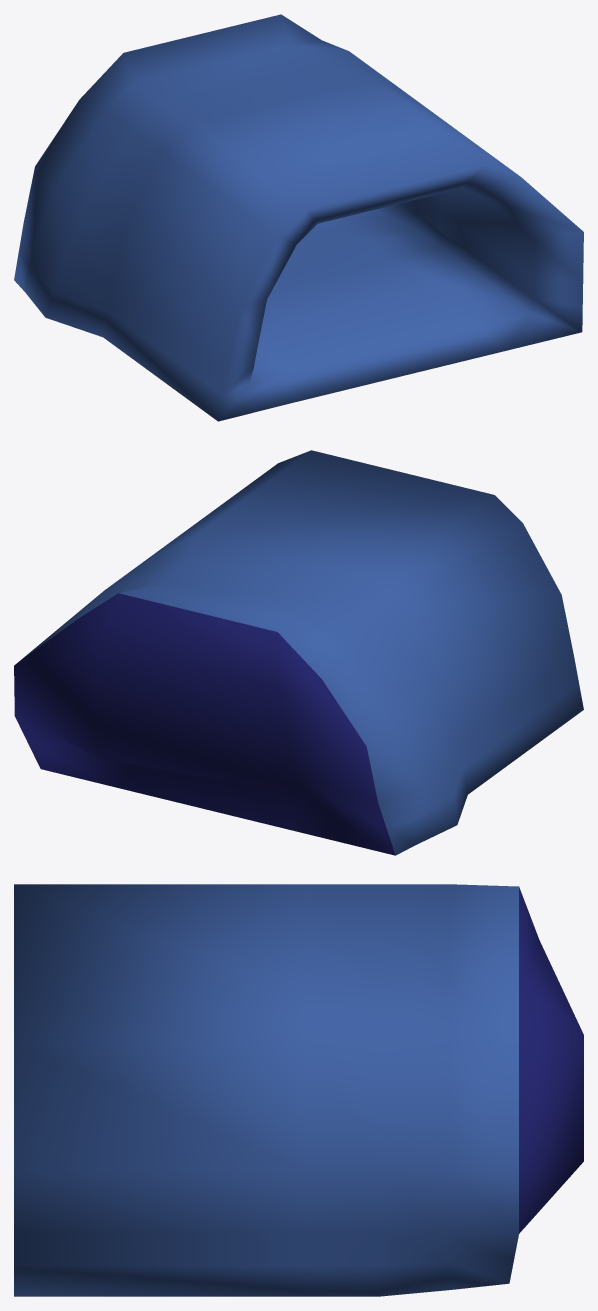
Rendered from Cave.fbx.
The picture shows the model from 3 angles, top to bottom: view 1: azimuth 30°, elevation 25°; view 2: azimuth 150°, elevation 25°; view 3: azimuth 270°, elevation 25°; orthographic projection. The views are drawn at different scales.
Visible parts, largest first — view 1: Cube; view 2: Cube; view 3: Cube.
Part boxes in pixels (<box>): Cube: <box>14,14,583,421</box>; Cube: <box>14,450,583,855</box>; Cube: <box>14,884,583,1296</box>.
Bounding box in the file's own units: 6000 × 3000 × 6000.
